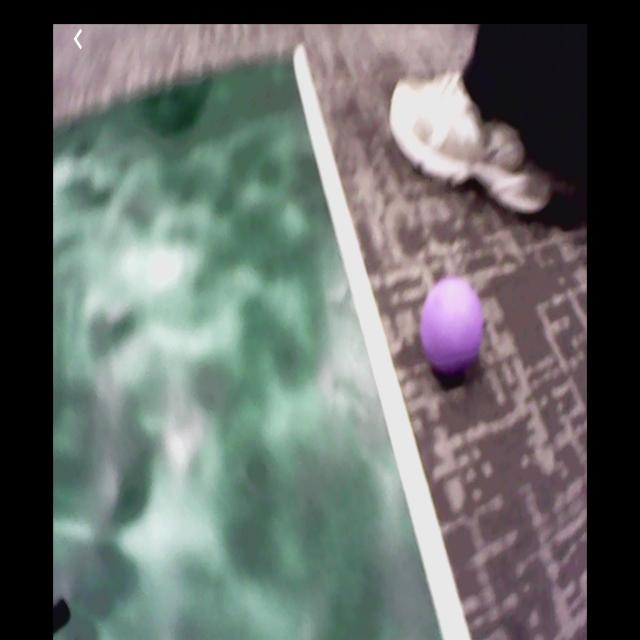ball: (422, 279, 485, 370)
